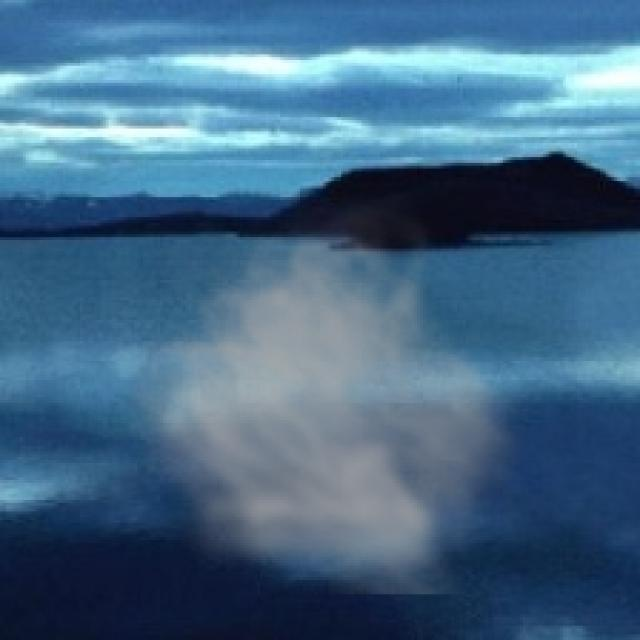Smoke: (115, 188, 534, 594)
